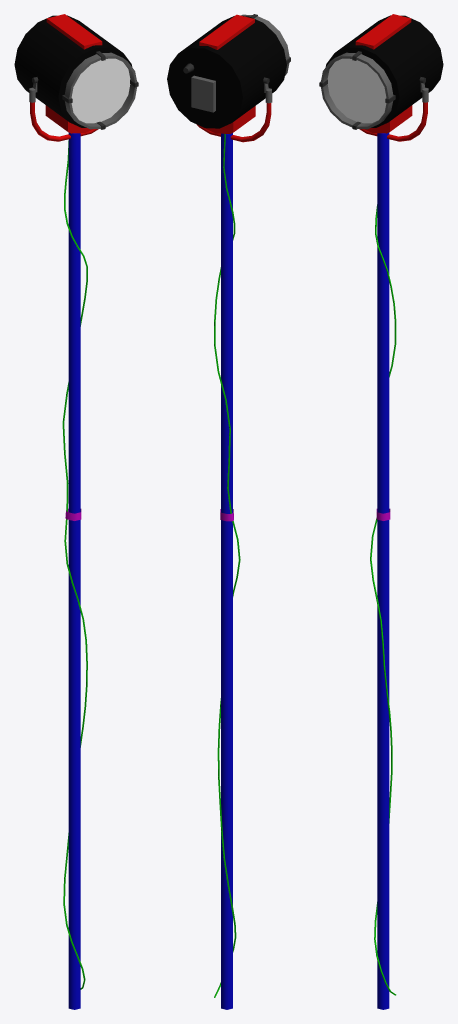
Rendered from WW_spotlight_03.fbx.
The picture shows the model from 3 angles, left to right: view 1: azimuth 30°, elevation 25°; view 2: azimuth 150°, elevation 25°; view 3: azimuth 330°, elevation 25°; orthographic projection.
Visible parts, largest first — view 1: spotlight_stand, spotlight_light; view 2: spotlight_stand, spotlight_light; view 3: spotlight_stand, spotlight_light.
Part boxes in pixels (left/top/right/bottom): spotlight_stand: left=29, top=77, right=98, bottom=1009; spotlight_light: left=14, top=14, right=138, bottom=133; spotlight_stand: left=196, top=77, right=272, bottom=1009; spotlight_light: left=167, top=14, right=290, bottom=133; spotlight_stand: left=359, top=77, right=428, bottom=1009; spotlight_light: left=319, top=14, right=443, bottom=133.
Size of the model in its own units: 16.17 by 167 by 17.38.
